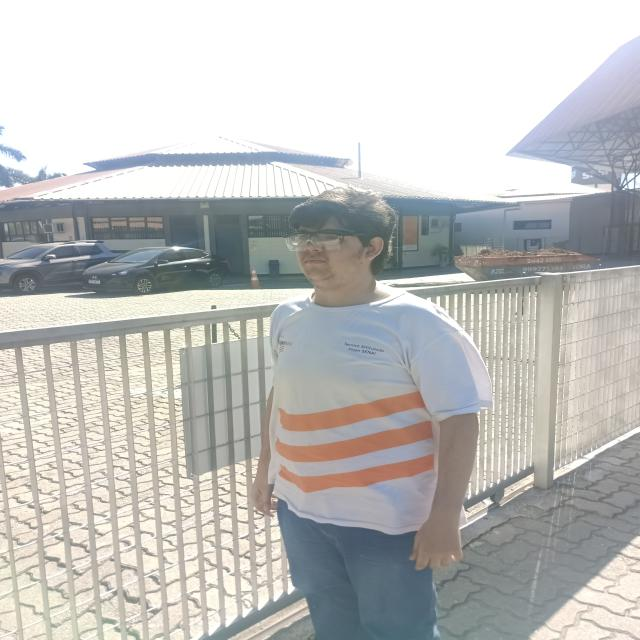oculos-epi: (283, 229, 365, 252)
